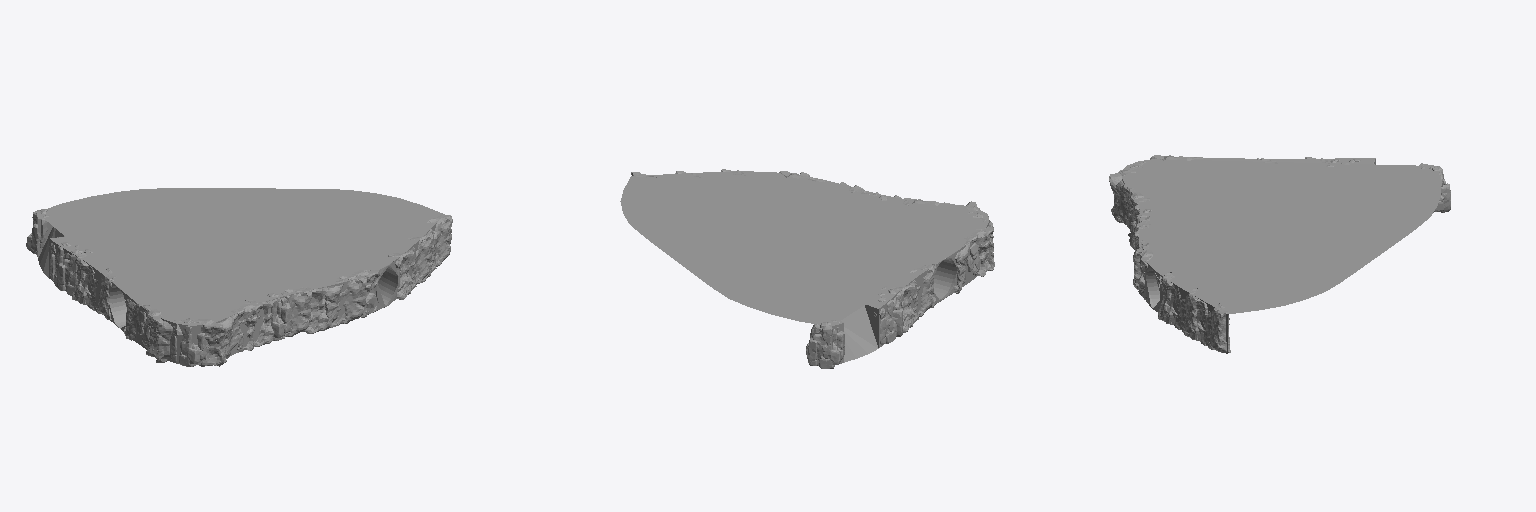
File: cliff0.obj
3 views of the same model, side by side, from view 1: azimuth 30°, elevation 25°; view 2: azimuth 150°, elevation 25°; view 3: azimuth 270°, elevation 25° (orthographic).
Parts seen in each view (by area): view 1: ledge_Cylinder_ledger_Cylinder, low.008_meshId0_name.016, rockcliff1_2.005_Untitled.005; view 2: ledge_Cylinder_ledger_Cylinder, low.008_meshId0_name.016, rockcliff1_2.005_Untitled.005; view 3: ledge_Cylinder_ledger_Cylinder, low.008_meshId0_name.016, rockcliff1_2.005_Untitled.005.
Boxes of the visible parts, box(x1,y1,x2,y2) form: ledge_Cylinder_ledger_Cylinder: box(36, 188, 444, 365); low.008_meshId0_name.016: box(72, 214, 452, 366); rockcliff1_2.005_Untitled.005: box(26, 209, 291, 366); ledge_Cylinder_ledger_Cylinder: box(620, 171, 989, 363); low.008_meshId0_name.016: box(631, 169, 994, 332); rockcliff1_2.005_Untitled.005: box(806, 192, 988, 368); ledge_Cylinder_ledger_Cylinder: box(1121, 157, 1441, 353); low.008_meshId0_name.016: box(1109, 155, 1329, 352); rockcliff1_2.005_Untitled.005: box(1129, 158, 1450, 249).
Size of the model in its own units: 33.05 by 4.32 by 29.45.